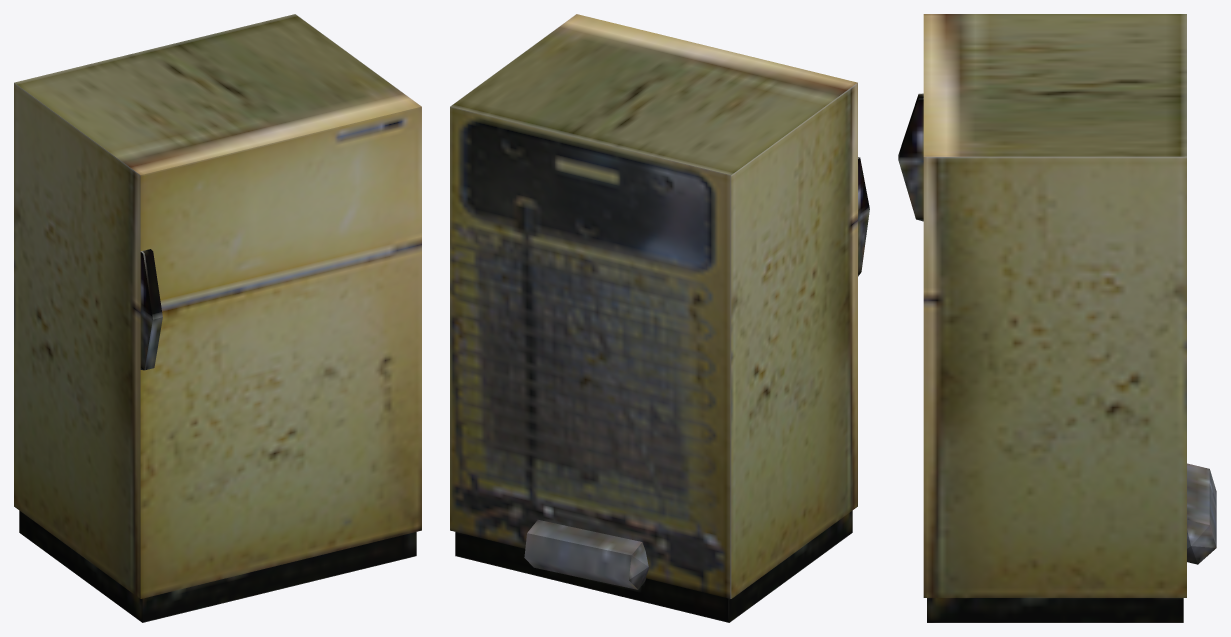
The model's file is Fridge.fbx.
The picture shows the model from 3 angles, left to right: view 1: azimuth 30°, elevation 25°; view 2: azimuth 150°, elevation 25°; view 3: azimuth 270°, elevation 25°; orthographic projection. The views are drawn at different scales.
Parts seen in each view (by area): view 1: Fridge; view 2: Fridge; view 3: Fridge.
Part boxes in pixels (<box>): Fridge: <box>14,14,421,622</box>; Fridge: <box>450,14,869,622</box>; Fridge: <box>898,14,1216,622</box>.
Bounding box in the file's own units: 108 × 165 × 102.
Materials: 1 (1 with a texture image).
